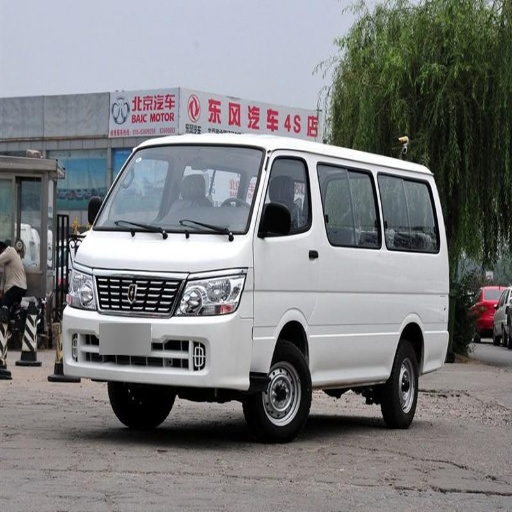front_bumper: (63, 268, 276, 387)
front_glass: (94, 146, 264, 234)
front_left_door: (261, 154, 328, 292)
trunk: (320, 259, 446, 379)
